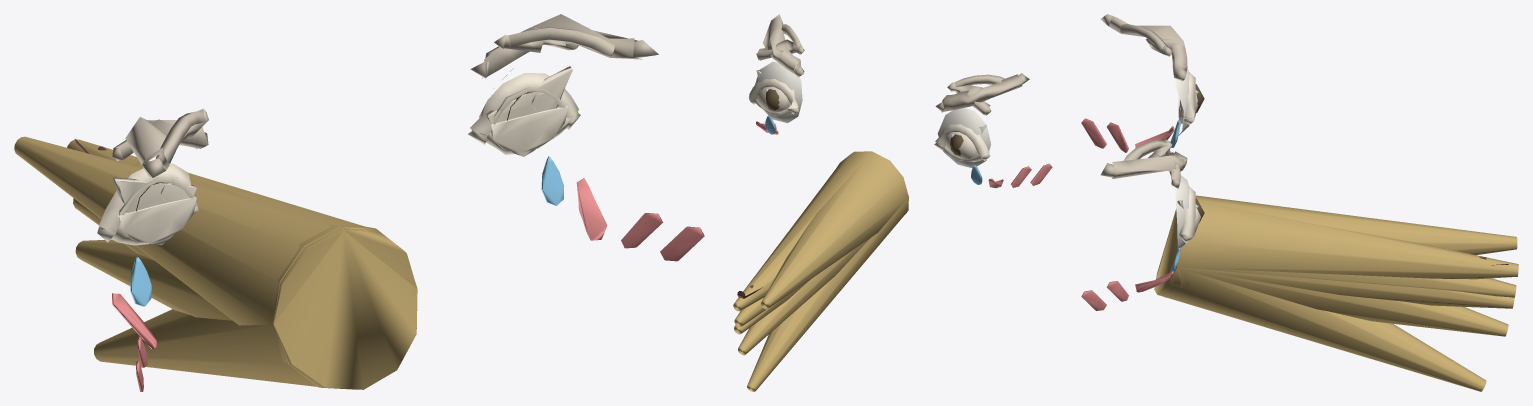
The model's file is npc_face_bitna.glb.
The picture shows the model from 3 angles, left to right: view 1: azimuth 30°, elevation 25°; view 2: azimuth 150°, elevation 25°; view 3: azimuth 270°, elevation 25°; orthographic projection. The views are drawn at different scales.
Visible parts, largest first — view 1: mouth_x_laugh, mouth_x_wavy, eyes_x_shy, eyes_x_angry, mouth_x_o, eyes_x_happy, mouth_x_grin, eyes_x_sad, eyes_x_surprised, mouth_x_grit, mouth_x_frown, eyes_x_blink; view 2: mouth_x_wavy, mouth_x_laugh, eyes_x_surprised, mouth_x_grit, eyes_x_angry, mouth_x_o, eyes_x_sad, eyes_x_happy, mouth_x_frown, eyes_x_shy, mouth_x_grin, eyes_x_blink; view 3: mouth_x_grit, mouth_x_laugh, mouth_x_o, mouth_x_wavy, mouth_x_grin, mouth_x_frown, eyes_x_angry, eyes_x_surprised, eyes_x_shy, eyes_x_sad, eyes_x_happy.
Part boxes in pixels (x1=…): mouth_x_laugh: x1=76, y1=141, x2=417, y2=389; mouth_x_wavy: x1=14, y1=136, x2=415, y2=325; eyes_x_shy: x1=112, y1=105, x2=704, y2=391; eyes_x_angry: x1=113, y1=14, x2=658, y2=245; mouth_x_o: x1=75, y1=233, x2=355, y2=389; eyes_x_happy: x1=97, y1=73, x2=580, y2=242; mouth_x_grin: x1=73, y1=139, x2=416, y2=323; eyes_x_sad: x1=112, y1=27, x2=578, y2=306; eyes_x_surprised: x1=127, y1=27, x2=614, y2=211; mouth_x_grit: x1=67, y1=139, x2=405, y2=360; mouth_x_frown: x1=272, y1=224, x2=417, y2=323; eyes_x_blink: x1=100, y1=112, x2=577, y2=245; mouth_x_wavy: x1=752, y1=151, x2=908, y2=309; mouth_x_laugh: x1=741, y1=197, x2=908, y2=391; eyes_x_surprised: x1=755, y1=24, x2=1004, y2=168; mouth_x_grit: x1=733, y1=151, x2=907, y2=311; eyes_x_angry: x1=756, y1=14, x2=1029, y2=133; mouth_x_o: x1=738, y1=197, x2=908, y2=355; eyes_x_sad: x1=756, y1=39, x2=991, y2=184; eyes_x_happy: x1=748, y1=79, x2=990, y2=160; mouth_x_frown: x1=734, y1=152, x2=908, y2=326; eyes_x_shy: x1=756, y1=121, x2=1052, y2=188; mouth_x_grin: x1=734, y1=279, x2=810, y2=334; eyes_x_blink: x1=753, y1=99, x2=989, y2=162; mouth_x_grit: x1=1175, y1=201, x2=1518, y2=288; mouth_x_laugh: x1=1154, y1=209, x2=1486, y2=391; mouth_x_o: x1=1165, y1=268, x2=1508, y2=336; mouth_x_wavy: x1=1177, y1=195, x2=1517, y2=288; mouth_x_grin: x1=1172, y1=256, x2=1514, y2=308; mouth_x_frown: x1=1177, y1=238, x2=1516, y2=297; eyes_x_angry: x1=1100, y1=14, x2=1187, y2=208; eyes_x_surprised: x1=1120, y1=24, x2=1204, y2=249; eyes_x_shy: x1=1081, y1=108, x2=1182, y2=310; eyes_x_sad: x1=1146, y1=39, x2=1200, y2=271; eyes_x_happy: x1=1179, y1=72, x2=1195, y2=243.
Bounding box in the file's own units: 0.5209 × 0.423 × 0.55.
